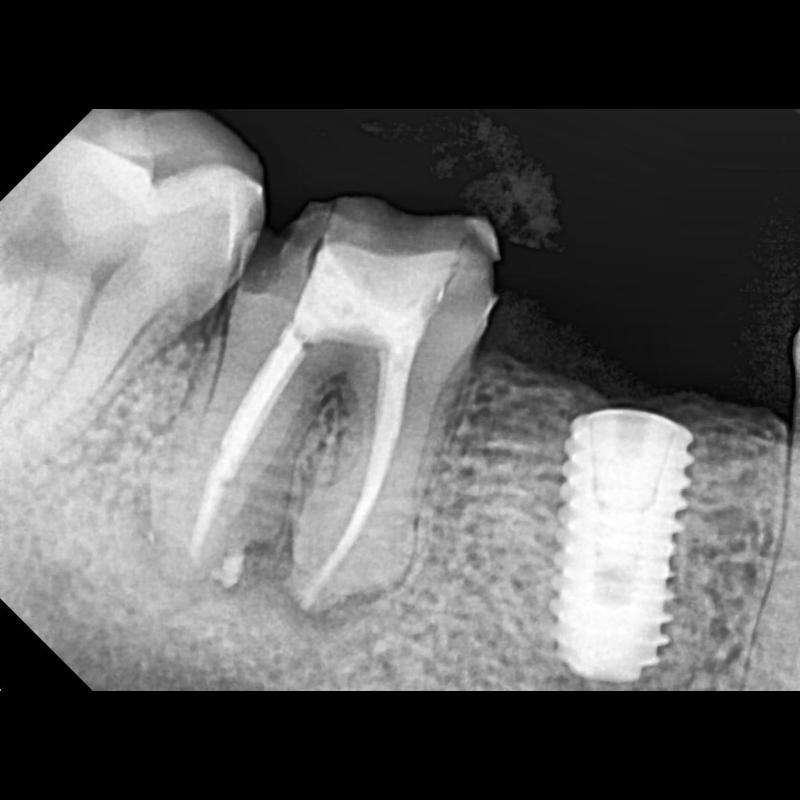osstem: (552, 399, 708, 691)
